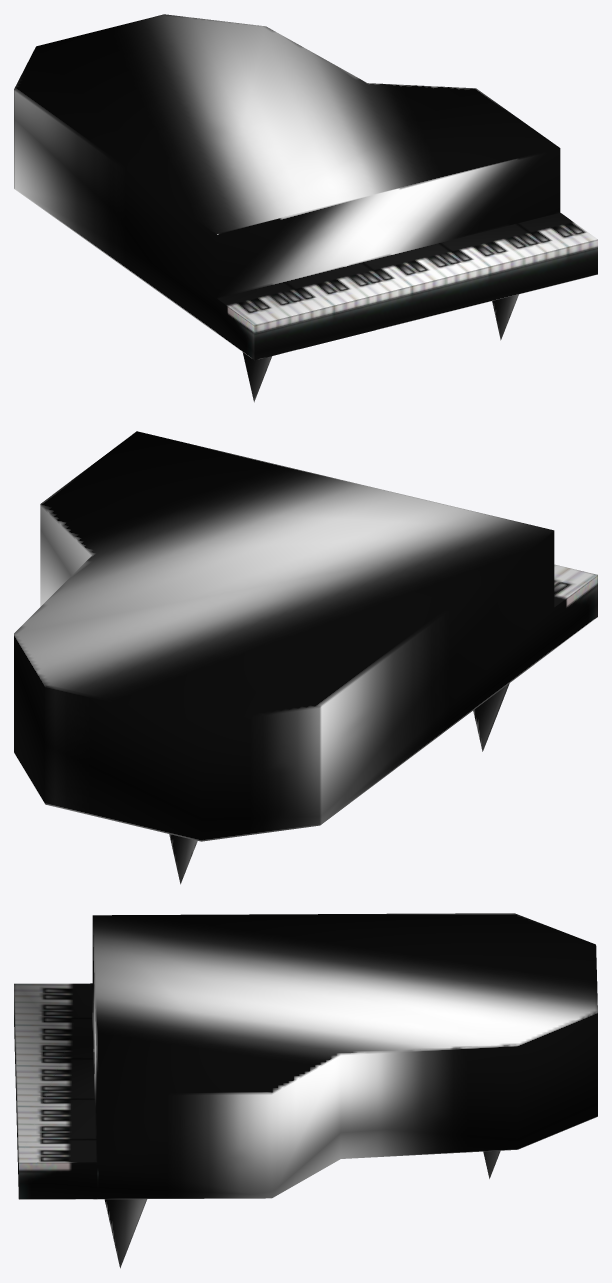
The model's file is piano.glb.
3 renders of one model, top to bottom at view 1: azimuth 30°, elevation 25°; view 2: azimuth 150°, elevation 25°; view 3: azimuth 270°, elevation 25°, orthographic. The views are drawn at different scales.
Parts seen in each view (by area): view 1: piano; view 2: piano; view 3: piano.
Part boxes in pixels (<box>): piano: <box>14,14,597,402</box>; piano: <box>14,431,597,884</box>; piano: <box>14,913,597,1268</box>.
Bounding box in the file's own units: 2.88 × 1.48 × 3.92.
1 material, 1 textured.
